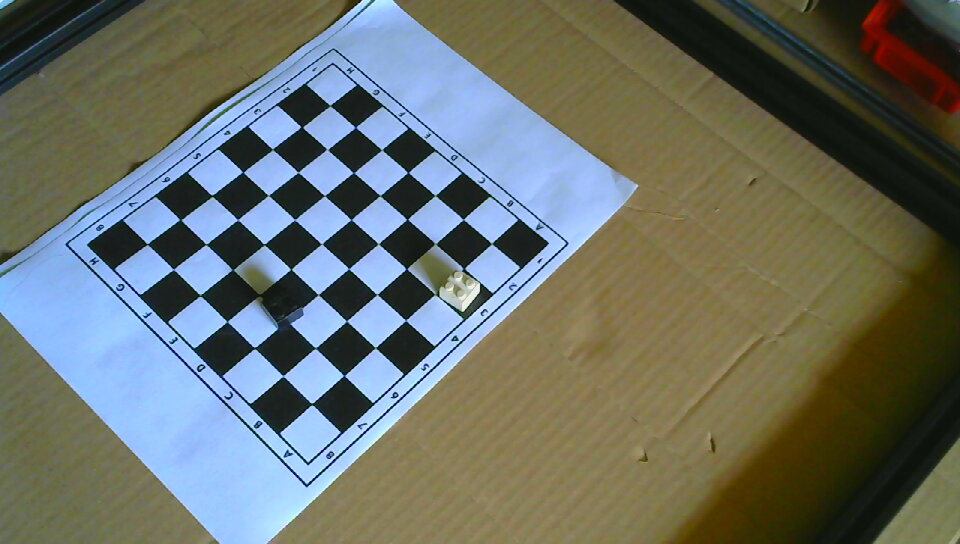bp: (258, 285, 306, 328)
wp: (437, 267, 483, 311)
